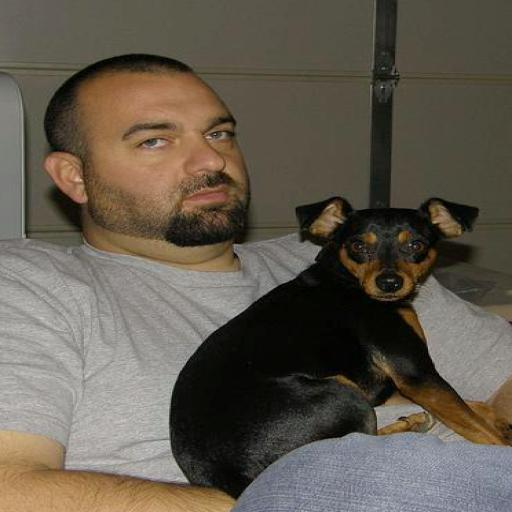dog_face: (288, 186, 490, 312)
